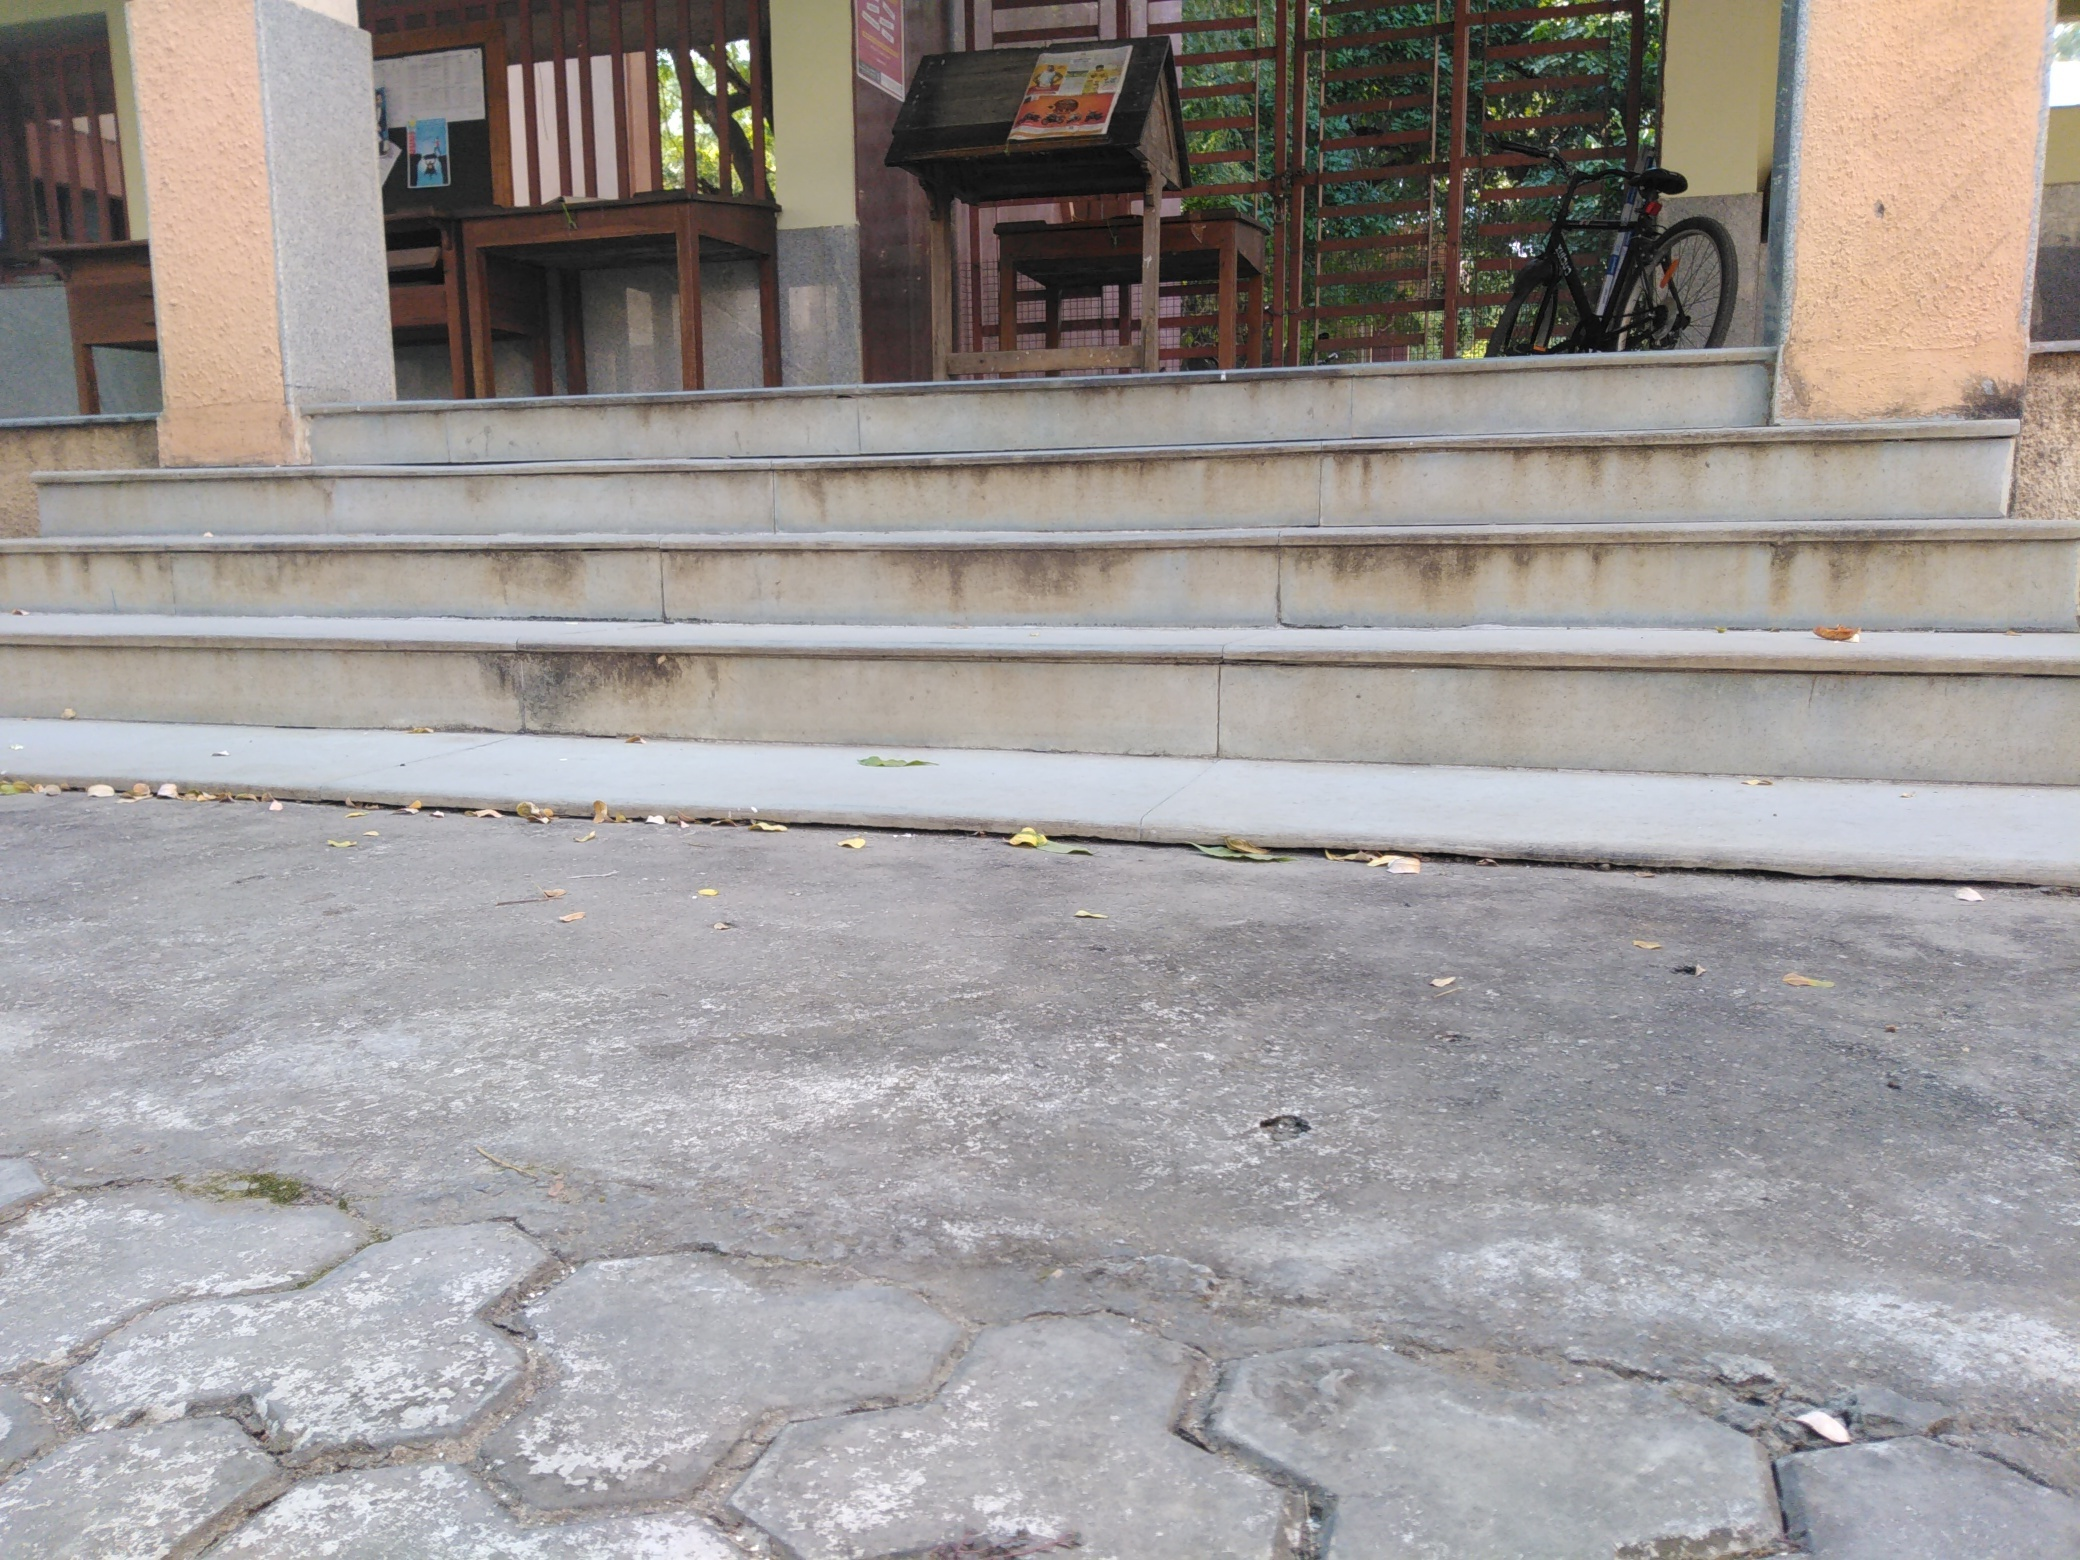stairs_up: (26, 395, 2080, 780)
